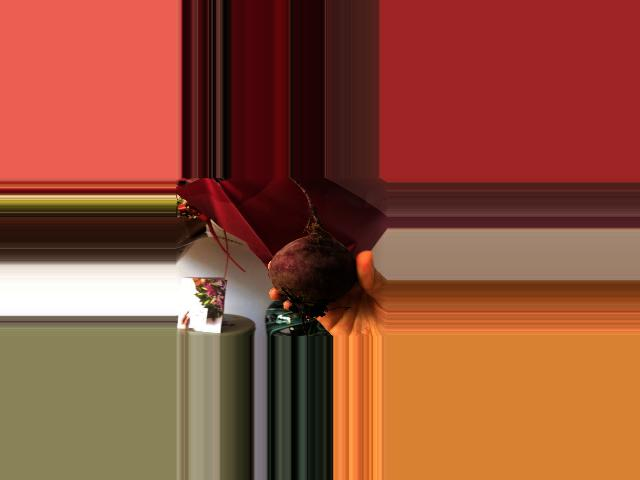beet: (268, 178, 356, 336)
